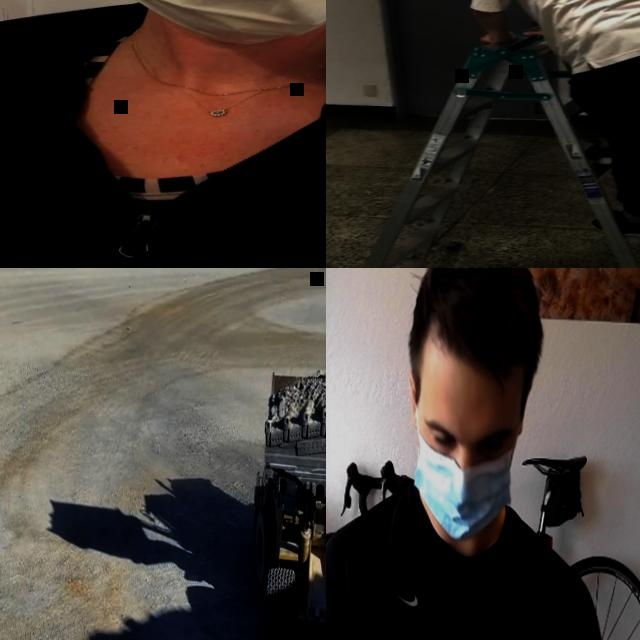Mask: (412, 425, 518, 539)
NO-Hardhat: (416, 268, 544, 359)
NO-Safety Vest: (0, 20, 326, 268), (330, 505, 565, 640), (495, 0, 640, 64)
Person: (326, 268, 618, 640), (0, 0, 326, 268), (441, 0, 640, 232)
machinery: (251, 365, 326, 640)
